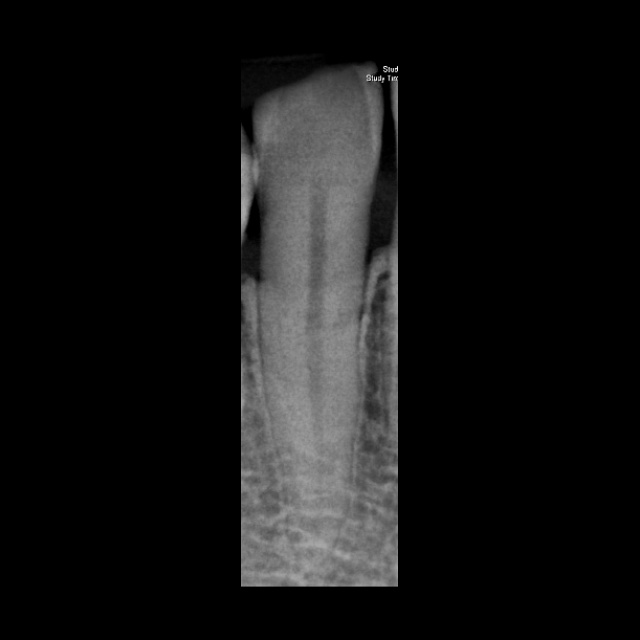tooth: (255, 61, 386, 574)
